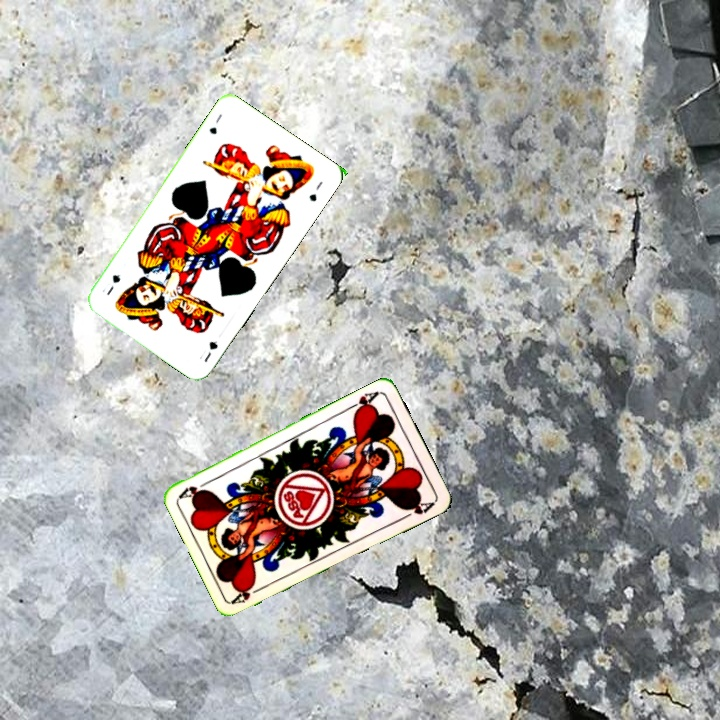GU: (200, 337, 221, 365), (205, 110, 225, 137)
HA: (344, 387, 382, 417), (229, 579, 268, 606)
